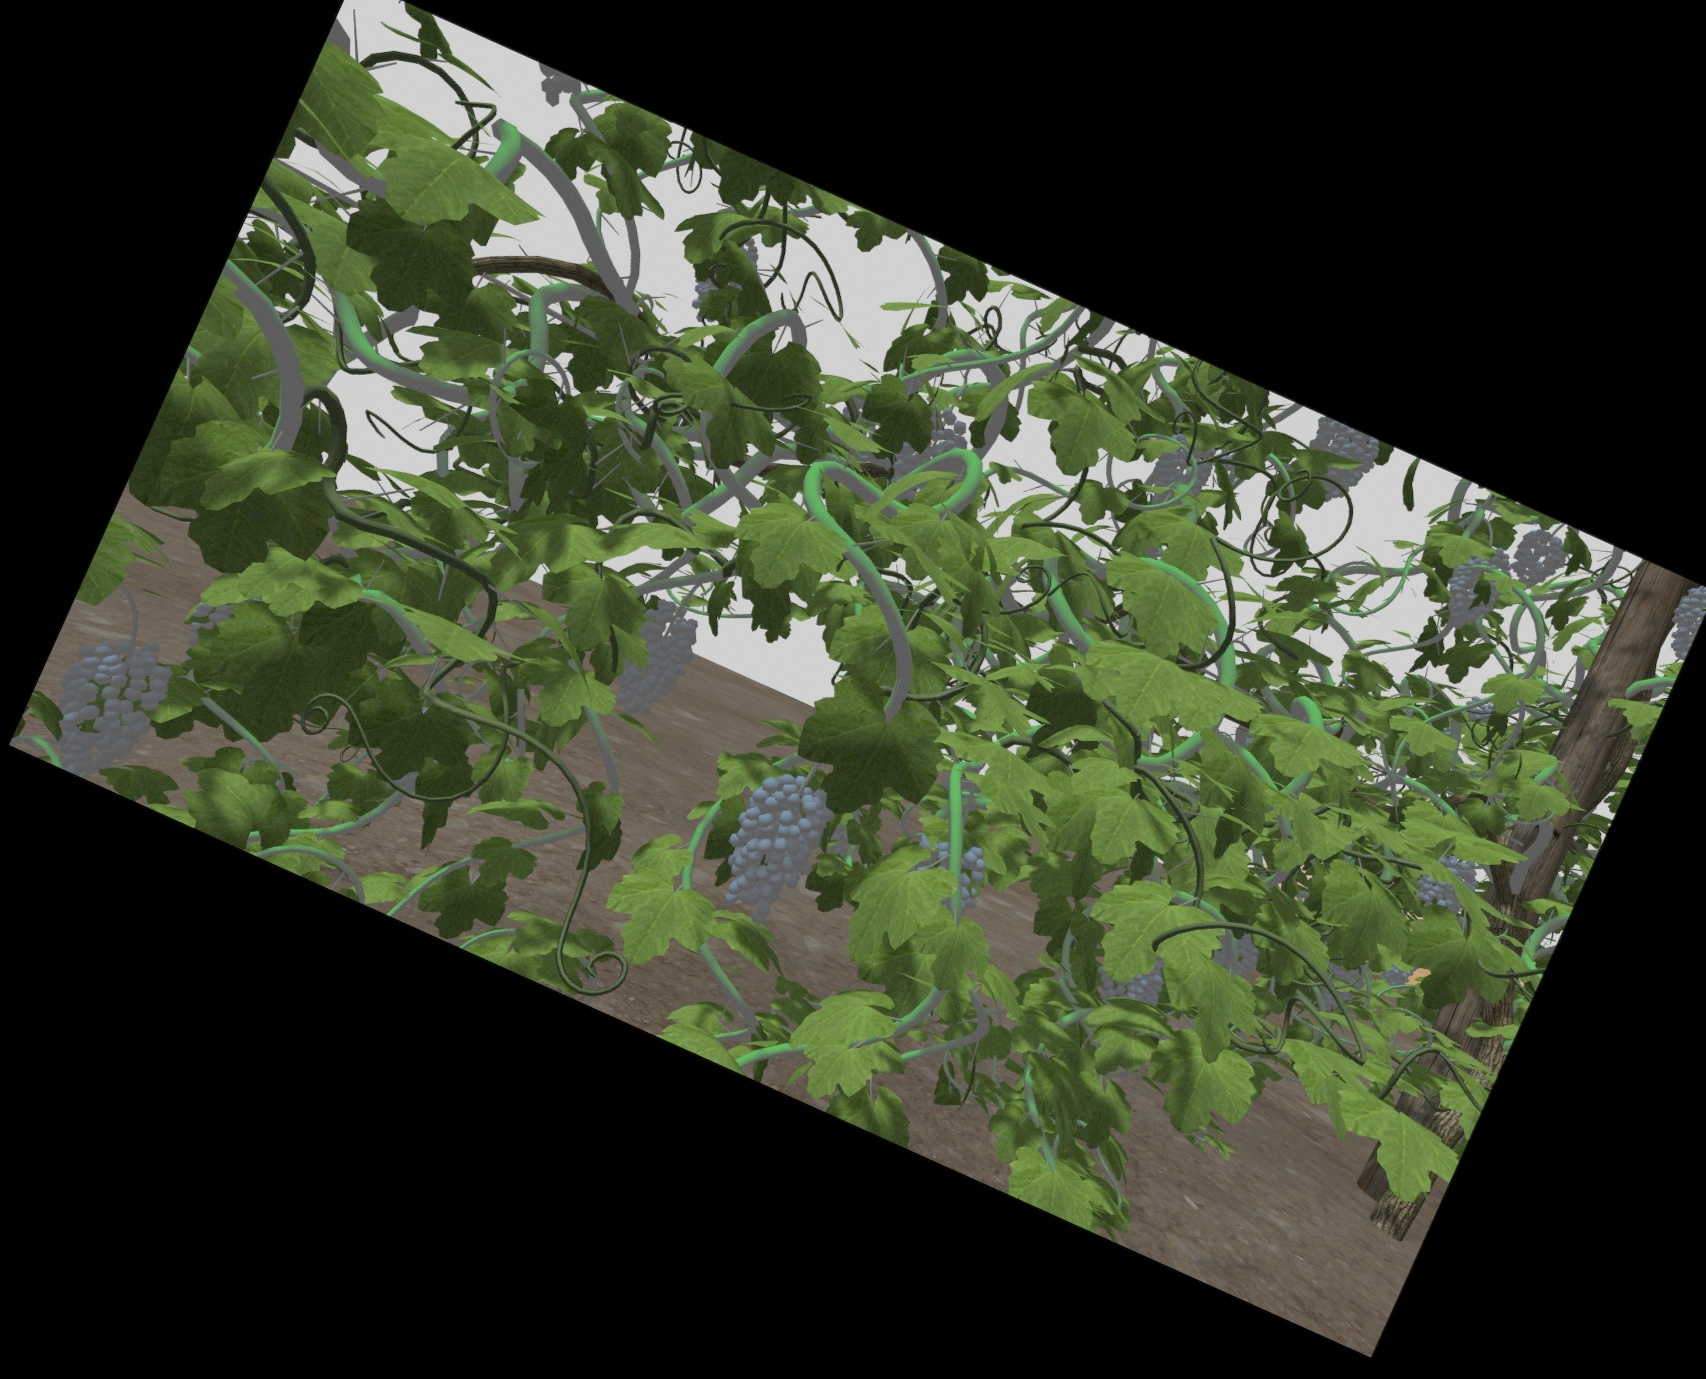grape: (63, 630, 155, 765), (730, 778, 810, 915), (617, 608, 686, 716), (1304, 431, 1370, 498), (1449, 550, 1501, 628), (1156, 440, 1205, 504), (1423, 856, 1473, 909), (1513, 533, 1564, 583)
